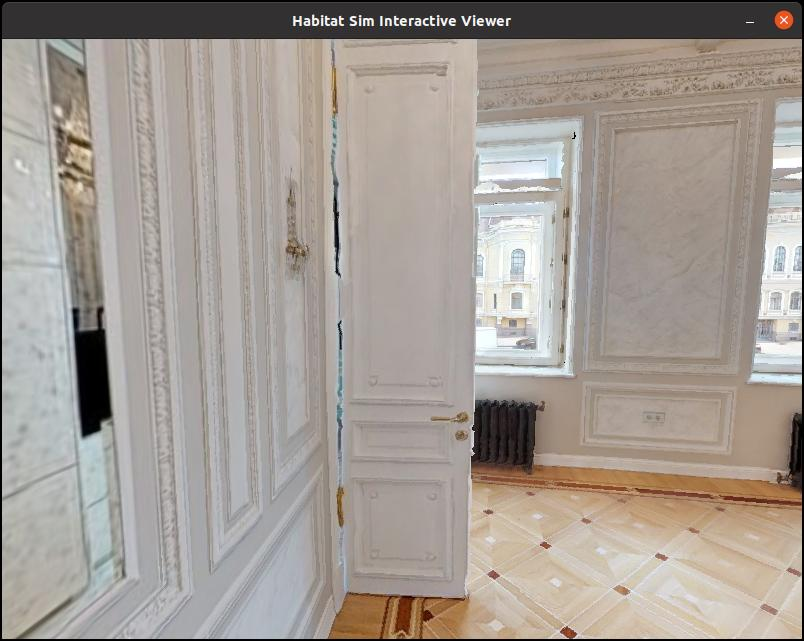door: (333, 40, 477, 603)
